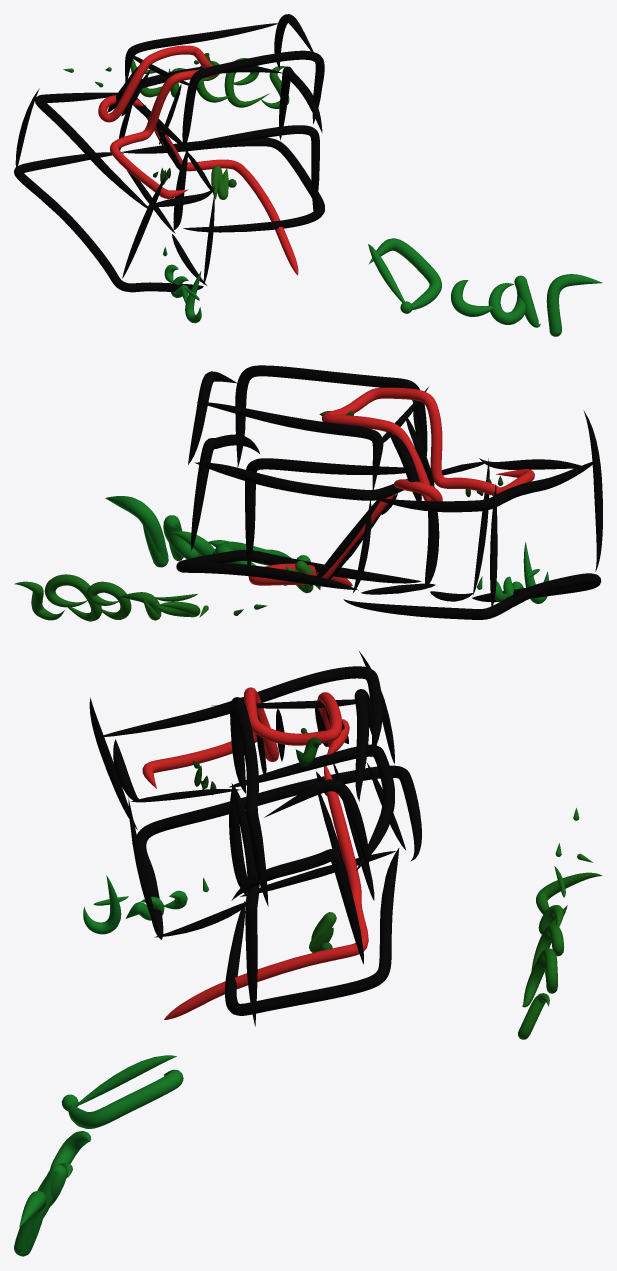
3 renders of one model, top to bottom at view 1: azimuth 30°, elevation 25°; view 2: azimuth 150°, elevation 25°; view 3: azimuth 270°, elevation 25°, orthographic. The views are drawn at different scales.
Visible parts, largest first — view 1: s.0078, s.0038, s.0026, s.0061, s.0051, s.0077, s.0043, s.0024, s.0022, s.0063, s.0025, s.0044 (+9 smaller); view 2: s.0078, s.0026, s.0038, s.0061, s.0043, s.0045, s.0051, s.0063, s.0025, s.0044, s.0024, s.0035 (+18 smaller); view 3: s.0026, s.0038, s.0078, s.0077, s.0051, s.0061, s.0045, s.0044, s.0022, s.0043, s.0062, s.0063 (+9 smaller).
Part boxes in pixels (box(x1,y1,x2,y2)): s.0078: box(98, 45, 217, 198); s.0038: box(14, 152, 203, 292); s.0026: box(121, 137, 324, 232); s.0061: box(182, 50, 324, 148); s.0051: box(35, 92, 147, 208); s.0077: box(146, 117, 298, 275); s.0043: box(189, 125, 319, 211); s.0024: box(488, 275, 540, 327); s.0022: box(368, 238, 441, 309); s.0063: box(125, 23, 277, 81); s.0025: box(546, 274, 602, 336); s.0044: box(279, 66, 322, 140); s.0078: box(322, 387, 534, 501); s.0026: box(176, 550, 421, 590); s.0038: box(343, 573, 601, 619); s.0061: box(235, 365, 427, 467); s.0043: box(245, 458, 405, 577); s.0045: box(194, 462, 407, 500); s.0051: box(378, 461, 594, 512); s.0063: box(196, 402, 383, 490); s.0025: box(105, 496, 168, 567); s.0044: box(191, 434, 259, 550); s.0024: box(163, 515, 213, 560); s.0035: box(44, 574, 101, 621); s.0026: box(225, 848, 399, 1015); s.0038: box(136, 765, 421, 939); s.0078: box(142, 687, 349, 788); s.0077: box(164, 766, 368, 1019); s.0051: box(103, 666, 382, 756); s.0061: box(230, 697, 268, 906); s.0045: box(229, 744, 394, 870); s.0044: box(231, 849, 363, 964); s.0022: box(68, 1069, 183, 1128); s.0043: box(231, 783, 259, 1026); s.0062: box(264, 779, 368, 869); s.0063: box(354, 689, 375, 801).
Size of the model in its own units: 16.58 by 13.79 by 9.68.
